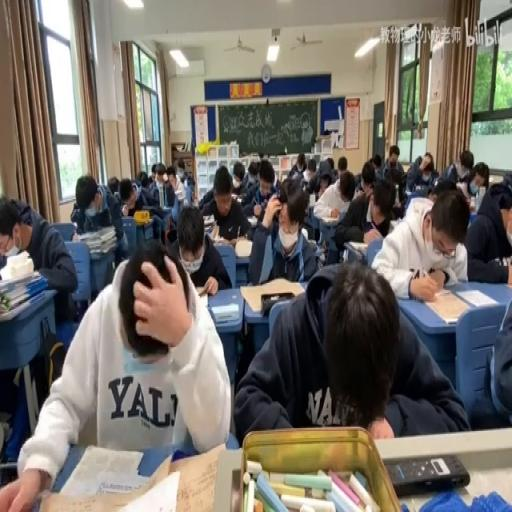calculator: (56, 442, 149, 498), (165, 441, 226, 510), (239, 278, 304, 312), (422, 289, 468, 321), (0, 289, 45, 320), (0, 266, 41, 294), (210, 302, 239, 324), (234, 236, 252, 256), (347, 239, 369, 252), (212, 233, 234, 246), (318, 213, 341, 225), (202, 216, 216, 235), (475, 186, 485, 212), (246, 213, 258, 226), (306, 193, 315, 209), (160, 202, 173, 212), (306, 238, 318, 248), (389, 219, 399, 230), (300, 226, 307, 239), (402, 189, 410, 199), (230, 192, 239, 199)
paper: (234, 256, 464, 441), (0, 191, 77, 452), (118, 240, 188, 360), (246, 179, 318, 286), (469, 276, 510, 429), (72, 172, 126, 280), (465, 172, 512, 279), (339, 171, 397, 250), (197, 165, 251, 249), (126, 171, 168, 233), (380, 146, 406, 204), (406, 151, 438, 193), (308, 155, 338, 196), (170, 189, 188, 228), (470, 162, 489, 192), (338, 172, 354, 202), (230, 160, 245, 190), (258, 161, 274, 189), (288, 151, 306, 175), (431, 178, 457, 193), (458, 151, 474, 175), (456, 176, 472, 200), (361, 165, 374, 192), (166, 165, 178, 189), (118, 185, 132, 205), (185, 174, 196, 196), (276, 182, 286, 206), (444, 164, 458, 180), (106, 176, 118, 194), (154, 168, 166, 186), (69, 202, 79, 222), (372, 154, 382, 172), (135, 171, 147, 186), (248, 165, 258, 183), (337, 155, 347, 172), (392, 203, 402, 219), (306, 165, 315, 181), (175, 161, 184, 176), (326, 155, 334, 169), (354, 182, 363, 193), (150, 164, 156, 180), (132, 180, 138, 194), (416, 155, 422, 165), (322, 128, 330, 134)
person: (386, 452, 470, 494), (197, 283, 210, 297)
